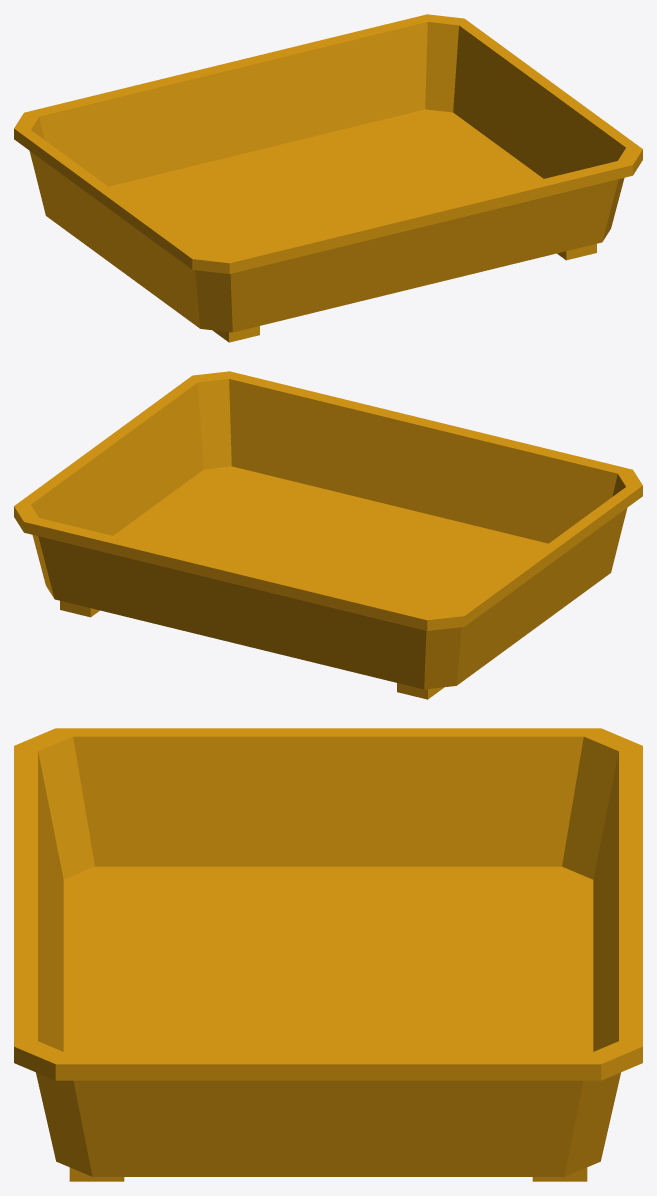
The model's file is SM_Cook_HerbTray_Yellow_01.glb.
3 views of the same model, one above another, from view 1: azimuth 30°, elevation 25°; view 2: azimuth 150°, elevation 25°; view 3: azimuth 270°, elevation 25° (orthographic). The views are drawn at different scales.
Parts seen in each view (by area): view 1: SM_Cook_HerbTray_Yellow_01; view 2: SM_Cook_HerbTray_Yellow_01; view 3: SM_Cook_HerbTray_Yellow_01.
Part boxes in pixels (x1,y1,x2,y2): SM_Cook_HerbTray_Yellow_01: (14, 14, 642, 342); SM_Cook_HerbTray_Yellow_01: (14, 371, 642, 699); SM_Cook_HerbTray_Yellow_01: (14, 728, 642, 1181).
Bounding box in the file's own units: 0.4374 × 0.09 × 0.346.
Materials: 1 (1 with a texture image).
